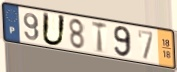7: (137, 29, 155, 62)
8: (68, 18, 87, 51)
9: (113, 25, 133, 59), (22, 12, 40, 42)
T: (91, 20, 108, 55)
U: (41, 11, 67, 48)
